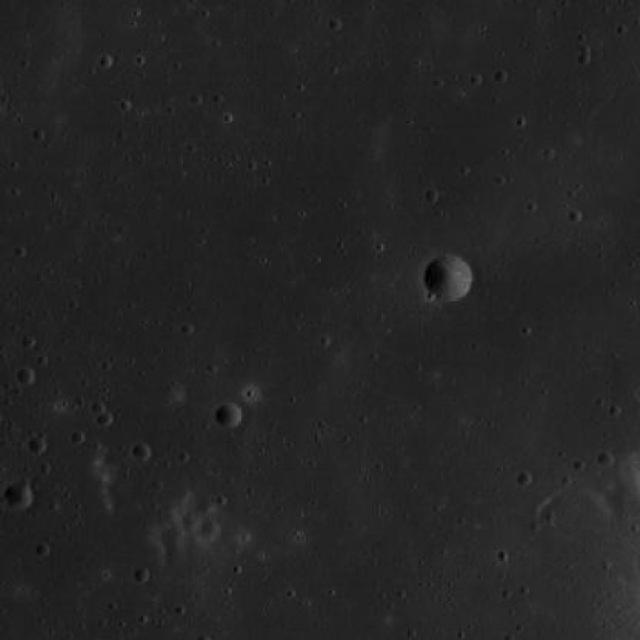crater: (103, 448, 189, 532), (540, 488, 614, 561), (424, 255, 472, 302), (4, 482, 33, 512), (214, 403, 240, 429), (199, 521, 219, 541), (12, 366, 30, 384), (28, 437, 47, 454), (133, 442, 150, 460), (597, 450, 614, 468)
